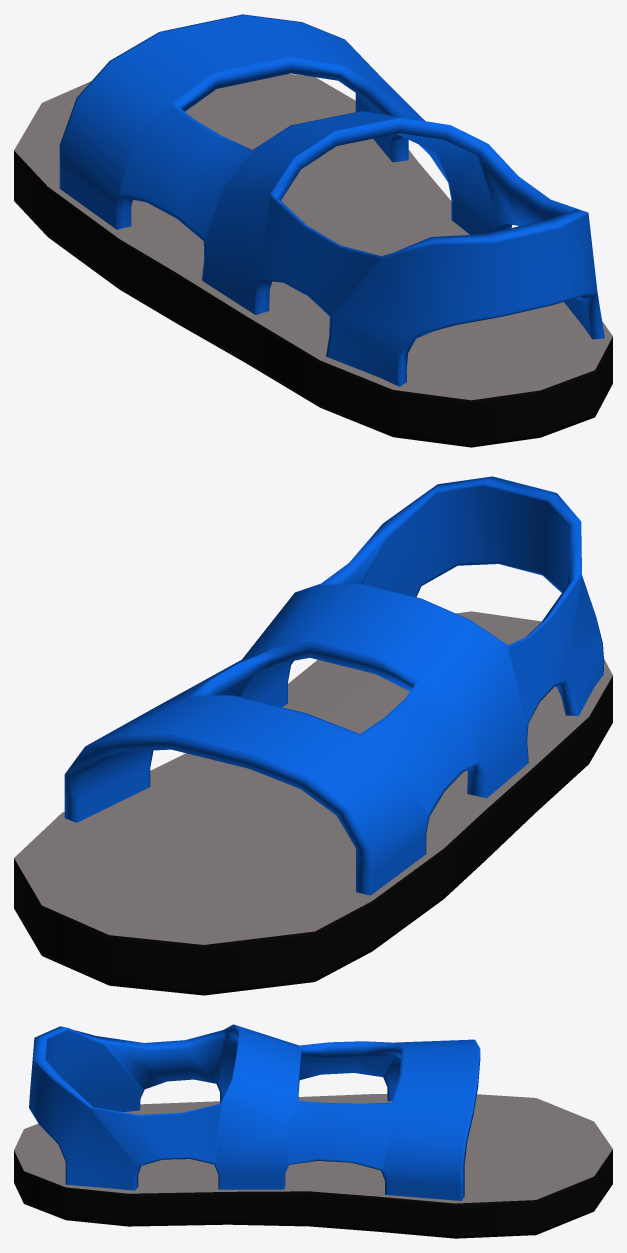
File: shoe_2.fbx
The picture shows the model from 3 angles, top to bottom: view 1: azimuth 30°, elevation 25°; view 2: azimuth 150°, elevation 25°; view 3: azimuth 270°, elevation 25°; orthographic projection. The views are drawn at different scales.
Visible parts, largest first — view 1: Cube; view 2: Cube; view 3: Cube.
Boxes of the visible parts, x1,y1,x2,y2 form: Cube: [14, 14, 612, 447]; Cube: [14, 476, 612, 995]; Cube: [14, 1024, 612, 1238].
Bounding box in the file's own units: 199 × 118 × 460.
